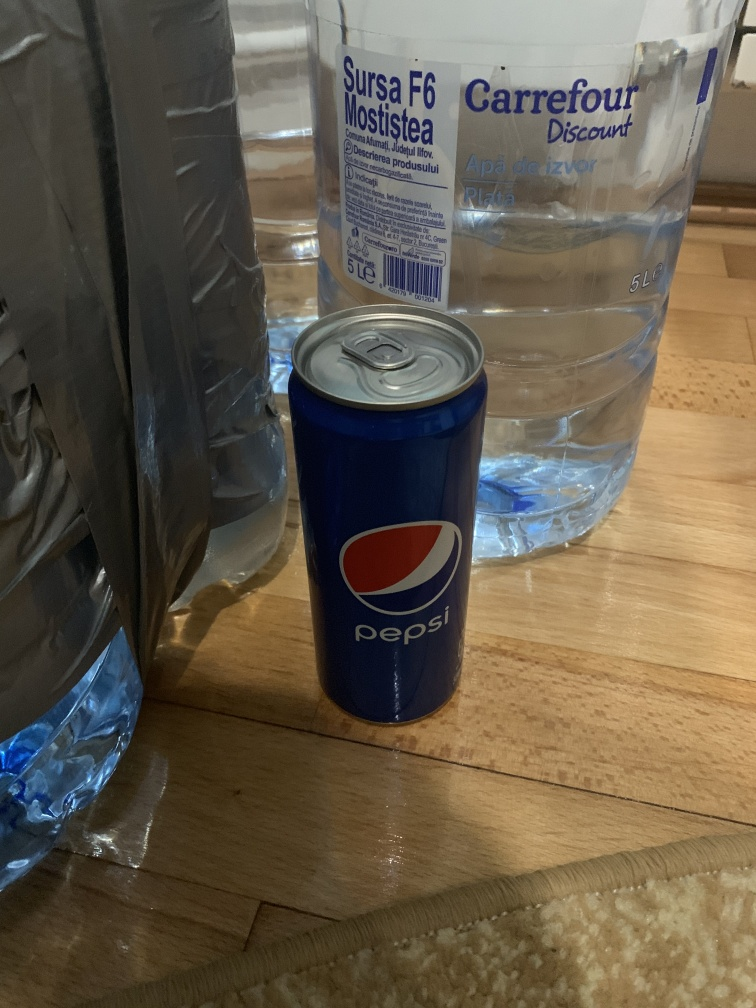pepsi: (283, 298, 495, 740)
